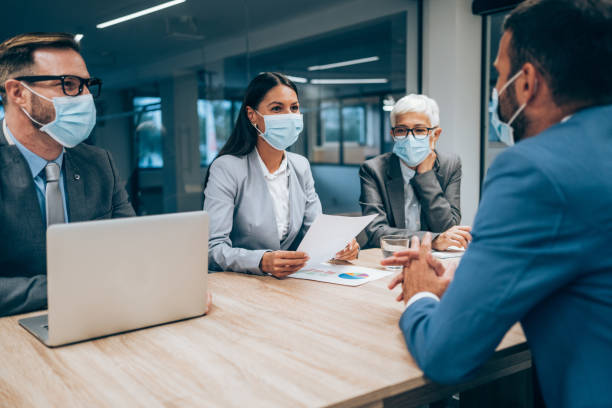with mask: (475, 6, 587, 152), (1, 37, 106, 151), (373, 84, 453, 180), (237, 61, 317, 157)
